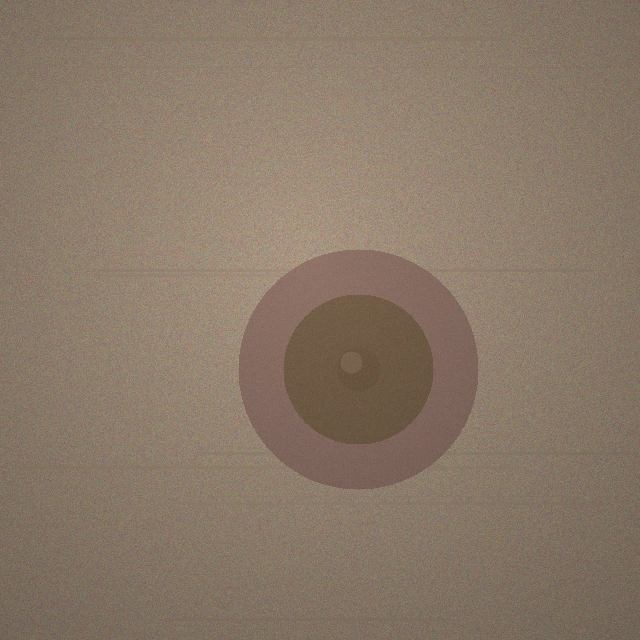good: (238, 249, 478, 489)
